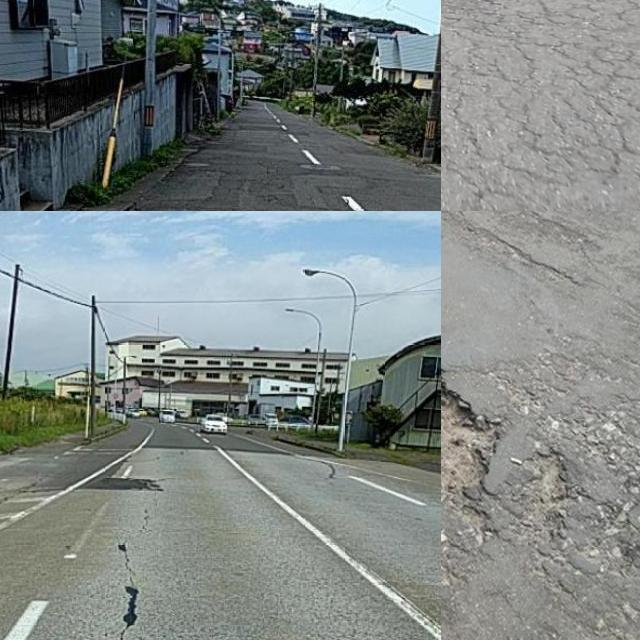Lubang: (441, 372, 485, 497)
Memanjang: (101, 472, 173, 640)
Retak Buaya: (441, 0, 640, 211)
